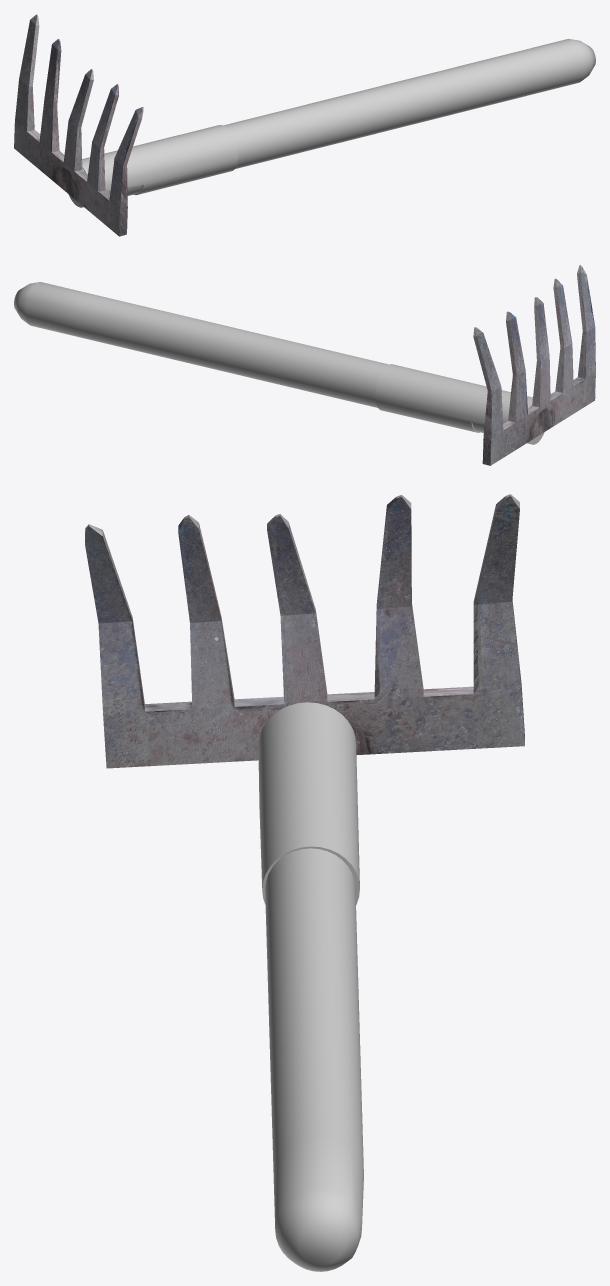
Rendered from Hoe.fbx.
3 views of the same model, one above another, from view 1: azimuth 30°, elevation 25°; view 2: azimuth 150°, elevation 25°; view 3: azimuth 270°, elevation 25° (orthographic). The views are drawn at different scales.
Visible parts, largest first — view 1: Cylinder, Cube; view 2: Cylinder, Cube; view 3: Cube, Cylinder.
Boxes of the visible parts, left/top/right/bottom form: Cylinder: left=68, top=38, right=595, bottom=207; Cube: left=14, top=14, right=143, bottom=236; Cylinder: left=14, top=282, right=544, bottom=444; Cube: left=473, top=265, right=595, bottom=465; Cube: left=85, top=494, right=524, bottom=768; Cylinder: left=258, top=702, right=363, bottom=1271.
Bounding box in the file's own units: 8.84 × 2.45 × 3.23.
